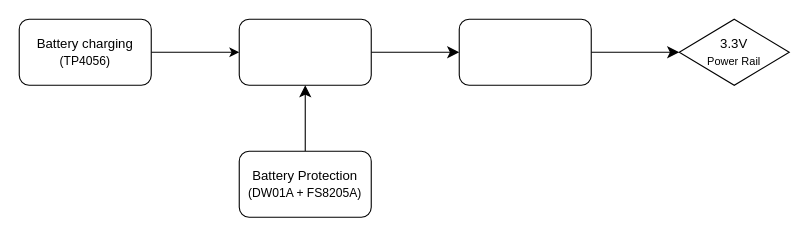
This 809x237 diagram has some shape labels left out. The shapes that lost their labels are listed below. From the top down, each one's centre as x and y in pixels, then its label:
At [304,51]: "Accumulator (Li-Ion)".
At [524,51]: "3.3V Buck Converter (SC189ZSKTRT)".
